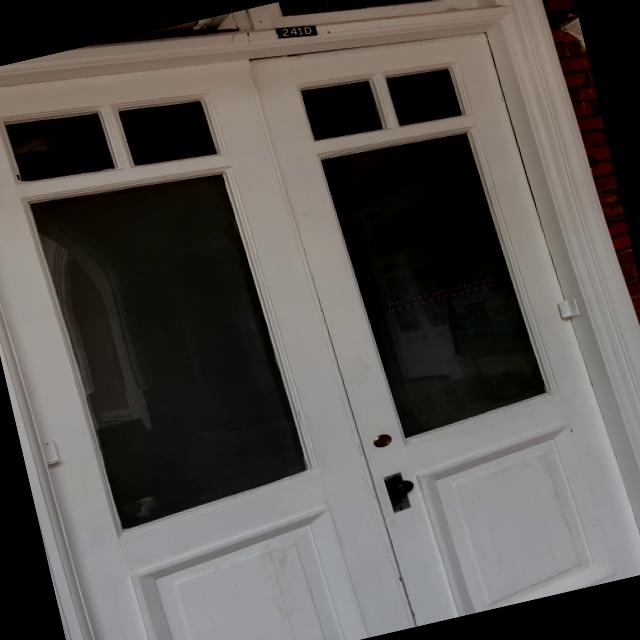room241d: (270, 14, 320, 46)
